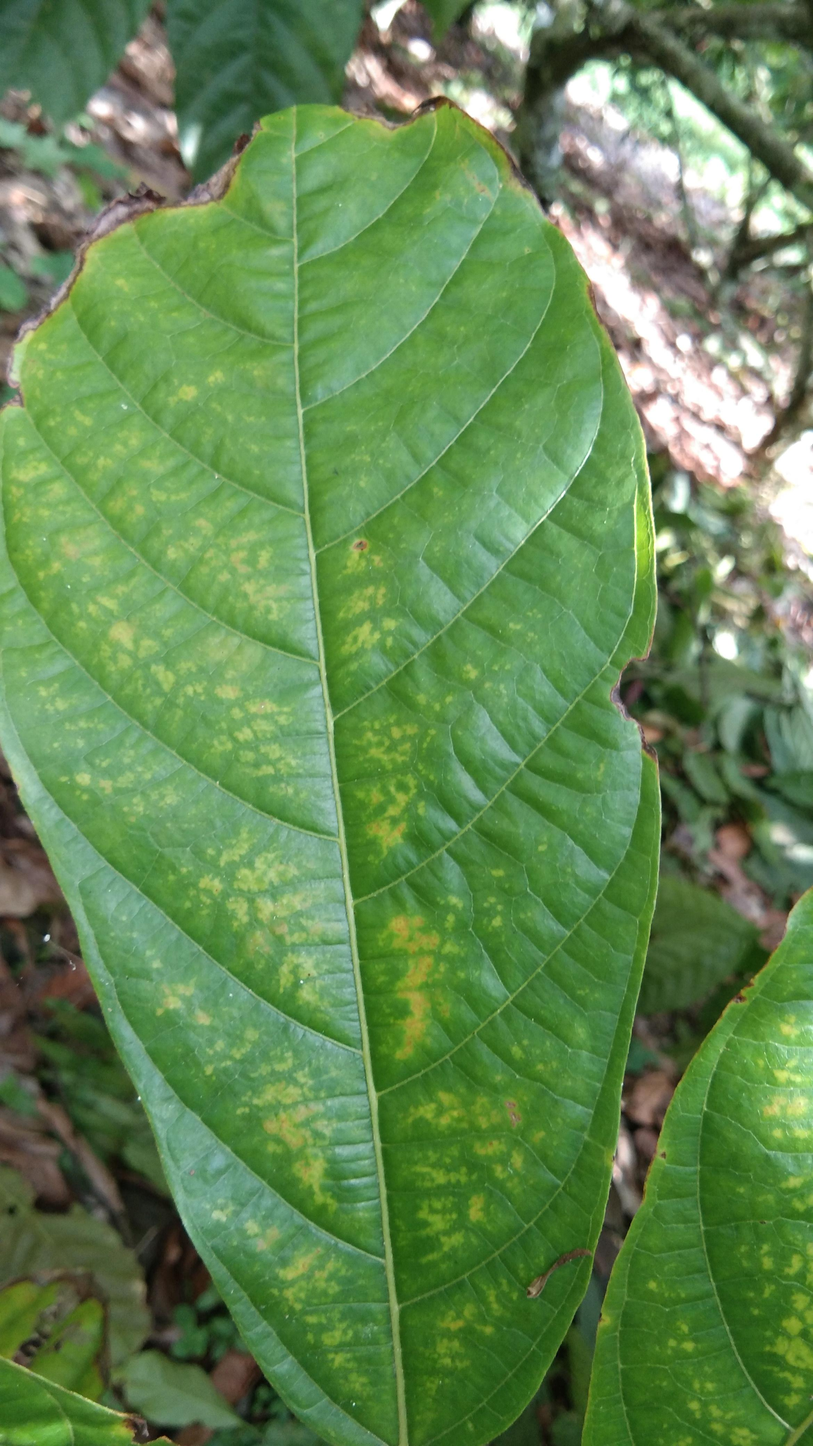deficiencia_potasio: (0, 73, 657, 1446)
